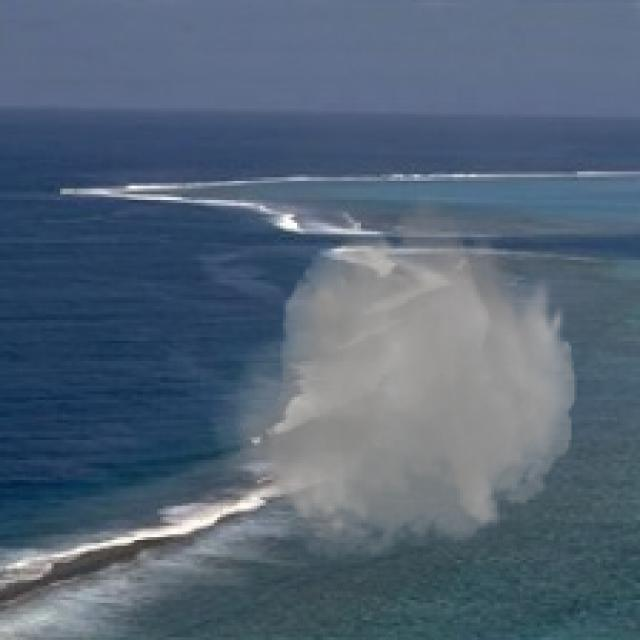Smoke: (208, 186, 586, 574)
